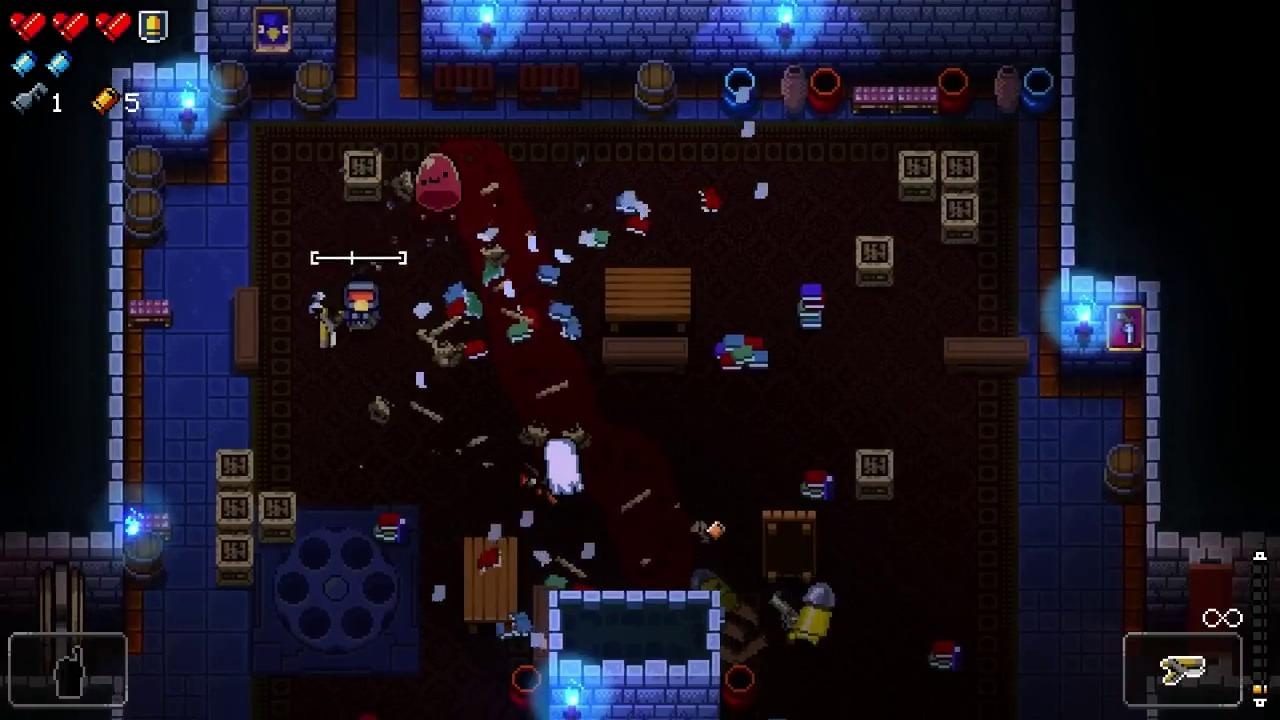blobulon_l: (415, 153, 460, 213)
bullet_kin: (790, 582, 834, 646)
hollowpoint: (545, 438, 584, 495)
player: (342, 281, 382, 333)
table: (605, 267, 691, 333), (464, 537, 515, 634), (761, 511, 819, 583)
teleporter: (253, 508, 420, 677)
